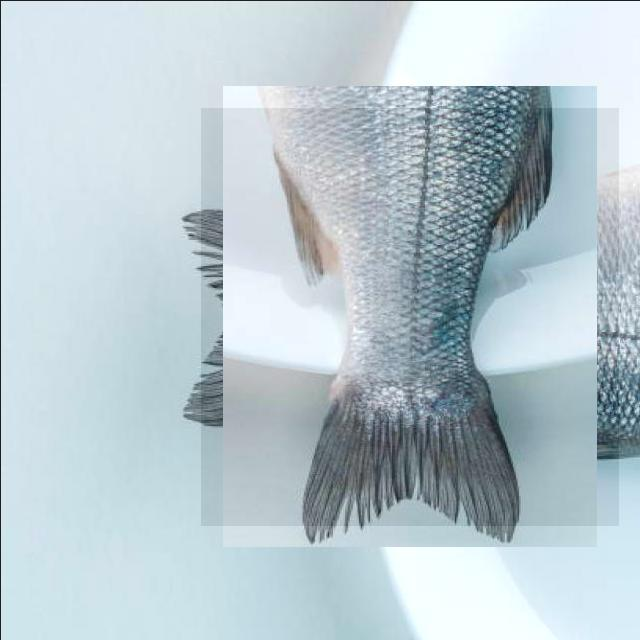Healthy Fish: (200, 107, 618, 525)
